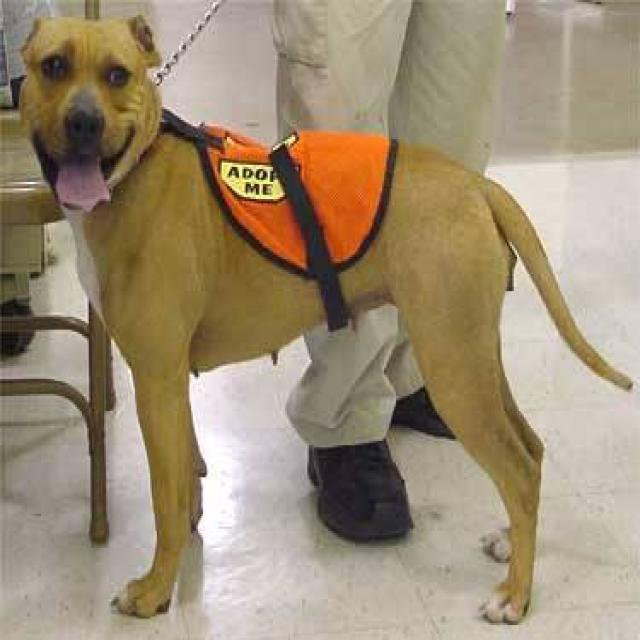dogs: (16, 8, 618, 640)
